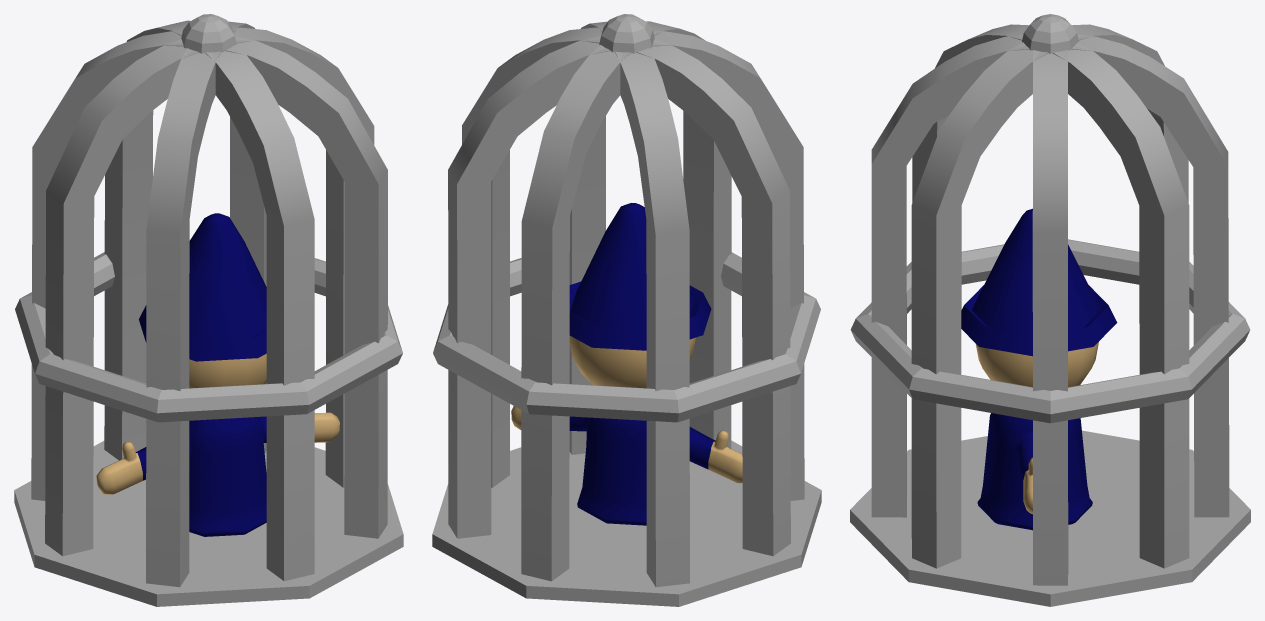
The model's file is trapped in cage.fbx.
3 views of the same model, side by side, from view 1: azimuth 30°, elevation 25°; view 2: azimuth 150°, elevation 25°; view 3: azimuth 270°, elevation 25° (orthographic).
Parts seen in each view (by area): view 1: Cage2, polySurface3; view 2: Cage2, polySurface3; view 3: Cage2, polySurface3.
Part boxes in pixels (x1,y1,x2,y2): Cage2: (14,14,403,606); polySurface3: (96,213,339,536); Cage2: (432,14,821,606); polySurface3: (511,203,742,525); Cage2: (850,14,1250,606); polySurface3: (961,208,1117,530).
Bounding box in the file's own units: 99.66 × 139 × 99.66.
